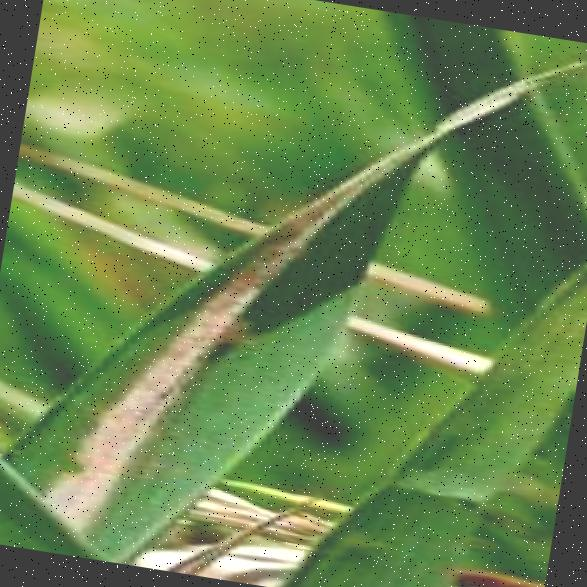Bacteria_Leaf_Blight: (33, 242, 256, 554)
